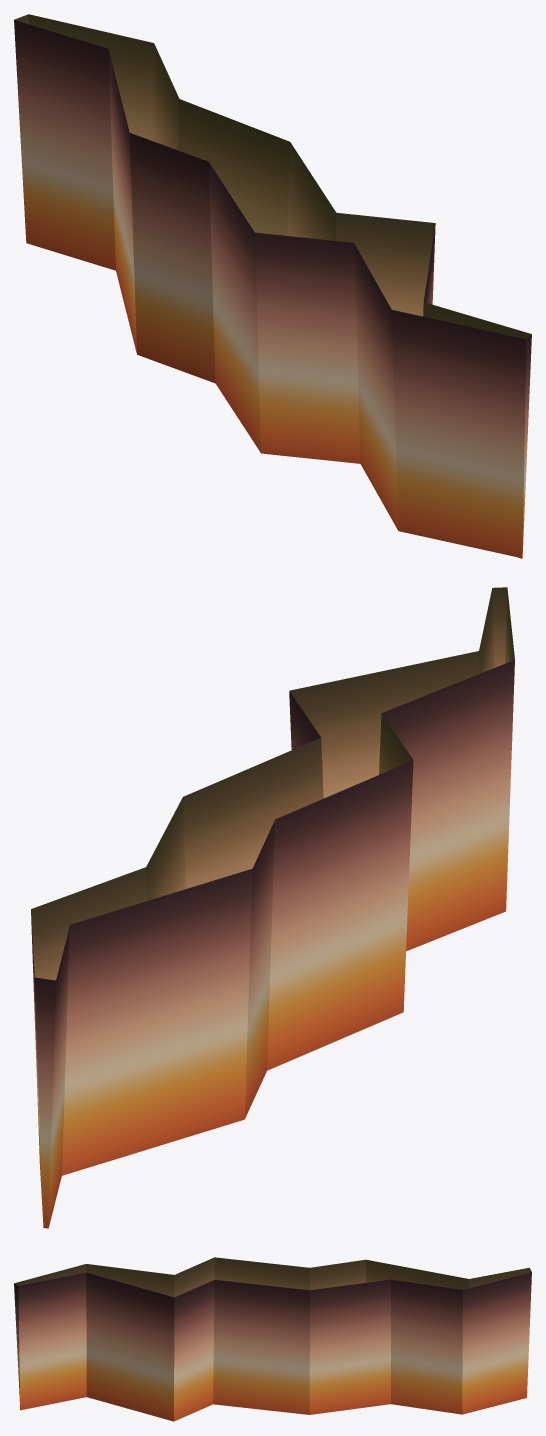
File: ChasmTest.fbx
3 views of the same model, one above another, from view 1: azimuth 30°, elevation 25°; view 2: azimuth 150°, elevation 25°; view 3: azimuth 270°, elevation 25° (orthographic). The views are drawn at different scales.
Visible parts, largest first — view 1: Cube.001; view 2: Cube.001; view 3: Cube.001.
Boxes of the visible parts, x1,y1,x2,y2 form: Cube.001: [14, 14, 531, 558]; Cube.001: [31, 587, 514, 1228]; Cube.001: [14, 1257, 531, 1421].
Size of the model in its own units: 54.62 by 80.35 by 298.
